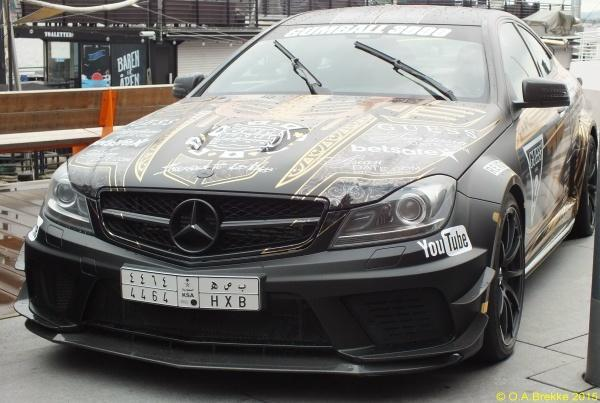Car: (20, 0, 596, 379)
Number plate: (120, 267, 269, 332)
